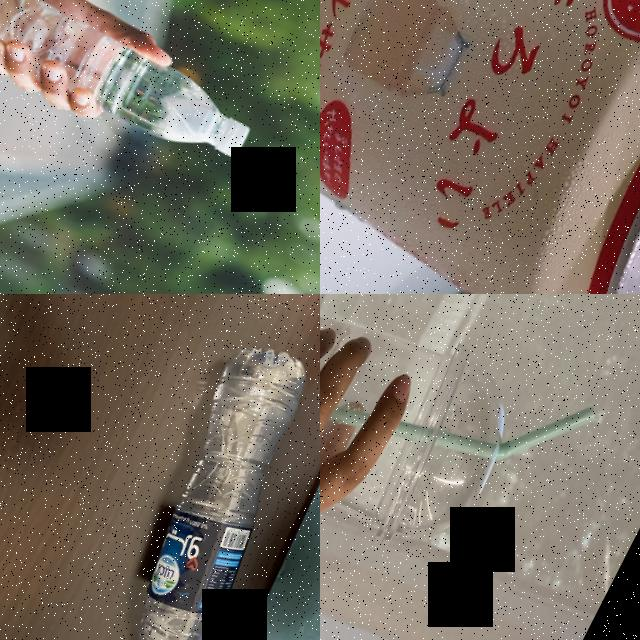bottle: (53, 315, 320, 640), (0, 0, 260, 178)
can: (320, 0, 640, 294)
cup: (320, 294, 538, 575)
